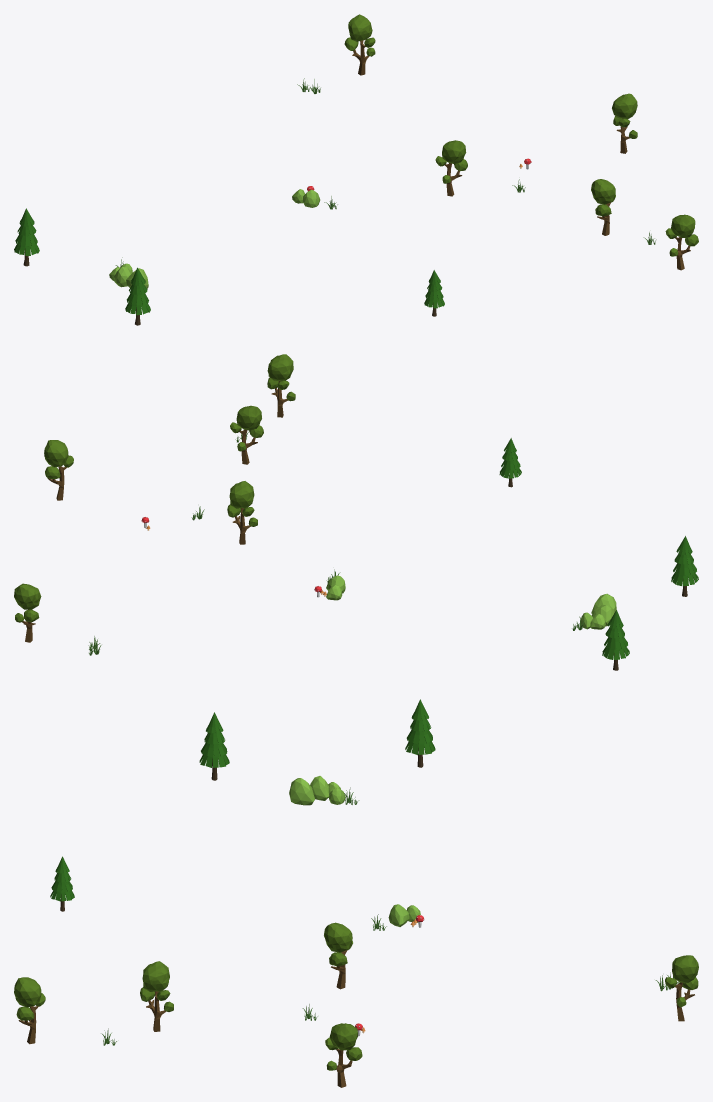
File: Trees_level4.glb
3 renders of one model, top to bottom at view 1: azimuth 30°, elevation 25°; view 2: azimuth 150°, elevation 25°; view 3: azimuth 270°, elevation 25°, orthographic. The views are drawn at different scales.
Visible parts, largest first — view 1: Trees_level4; view 2: Trees_level4; view 3: Trees_level4.
Boxes of the visible parts, bbox=[...] form: Trees_level4: bbox=[14, 14, 698, 325]; Trees_level4: bbox=[14, 354, 698, 670]; Trees_level4: bbox=[14, 699, 698, 1087].
Bounding box in the file's own units: 6.56 × 0.6279 × 5.7.
